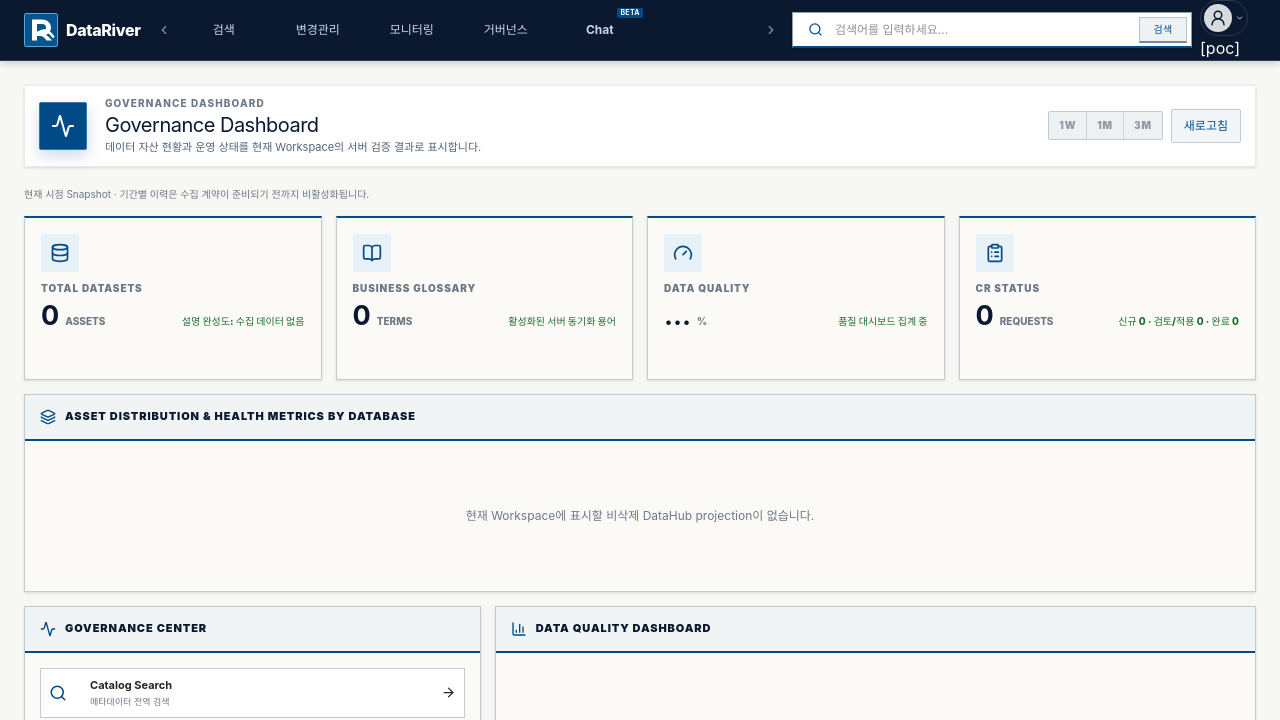
Scenario: POC compatibility application › uses the viewer projection for menus and rejects a forged direct Admin URL
The width and height of the screenshot is (1280, 720).
Check: the 1st button "검색" is shown, box [177,2,271,58]
Click the button named "POC User 사용자 메뉴". click: (1224, 18)
box: [1200,0,1248,36]
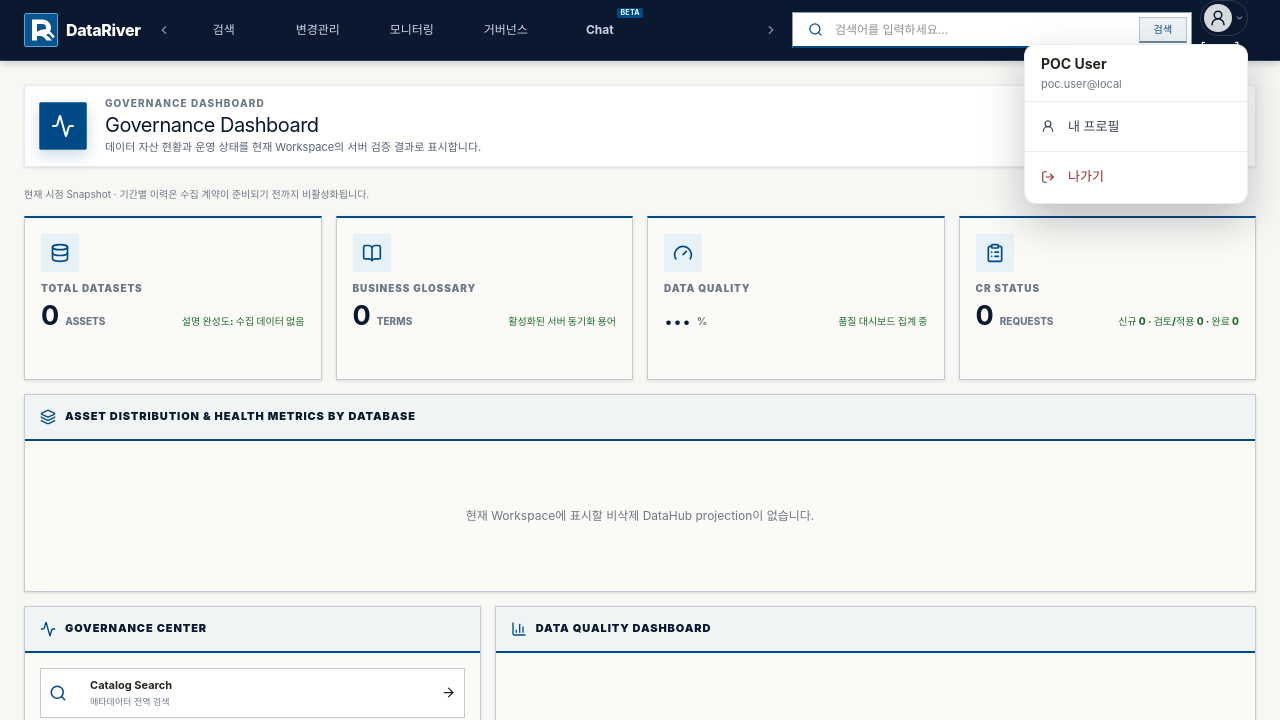
Check: the menu item "내 프로필" is shown, box [1025,108,1247,144]
